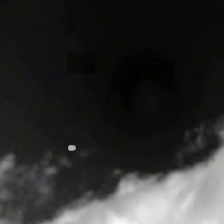Target: (67, 144, 78, 152)
